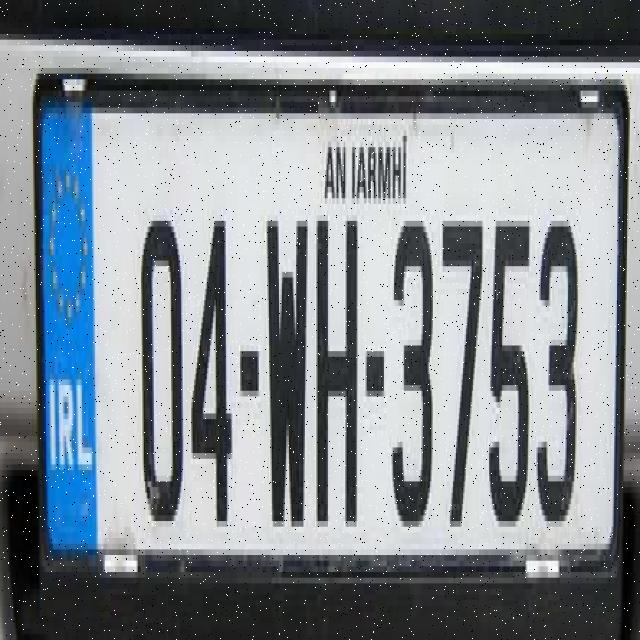EU: (37, 84, 627, 586)
Irlande: (41, 97, 97, 573)
